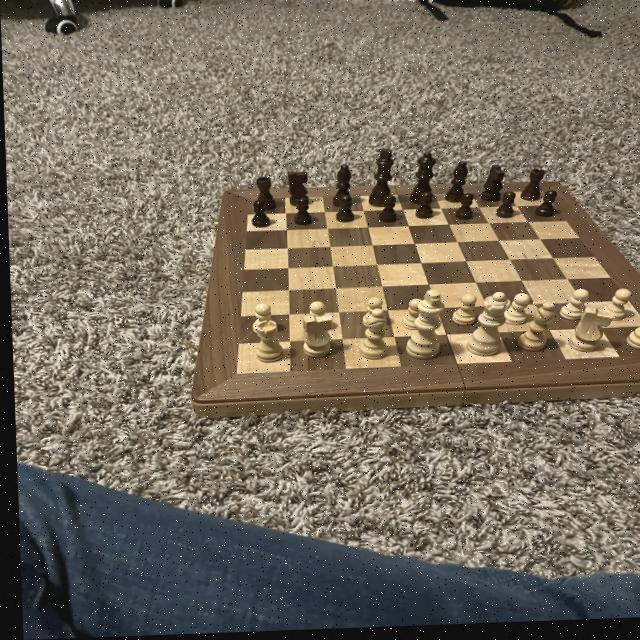bishop: (327, 162, 355, 212), (441, 163, 470, 209)
black-bishop: (362, 147, 398, 212)
black-king: (478, 167, 506, 209), (285, 171, 312, 213)
black-knight: (289, 198, 316, 230), (330, 196, 357, 227), (491, 194, 518, 224), (531, 193, 558, 223), (412, 193, 436, 225), (451, 195, 474, 226), (248, 200, 268, 233), (376, 196, 397, 227)
black-pawn: (407, 154, 437, 213)
black-queen: (516, 171, 547, 209), (251, 177, 279, 214)
black-rook: (514, 306, 556, 361), (356, 309, 389, 364)
white-bishop: (400, 293, 445, 367)
white-king: (564, 309, 615, 365), (296, 316, 335, 363)
white-knight: (595, 291, 634, 326), (556, 292, 590, 325), (499, 296, 531, 331), (448, 295, 479, 330), (246, 303, 277, 336), (399, 297, 426, 334), (301, 301, 328, 334), (360, 298, 386, 330)
white-pawn: (460, 294, 512, 362)
white-queen: (246, 321, 286, 367), (622, 311, 640, 356)
